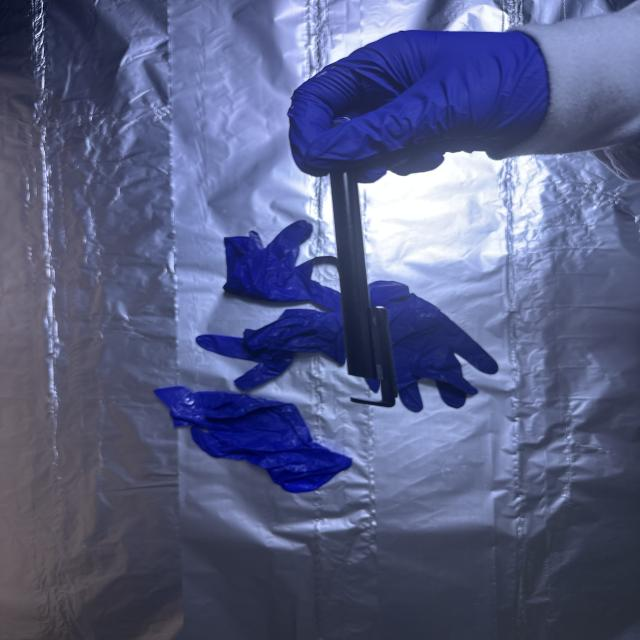gloves_contaminated: (288, 30, 549, 182)
